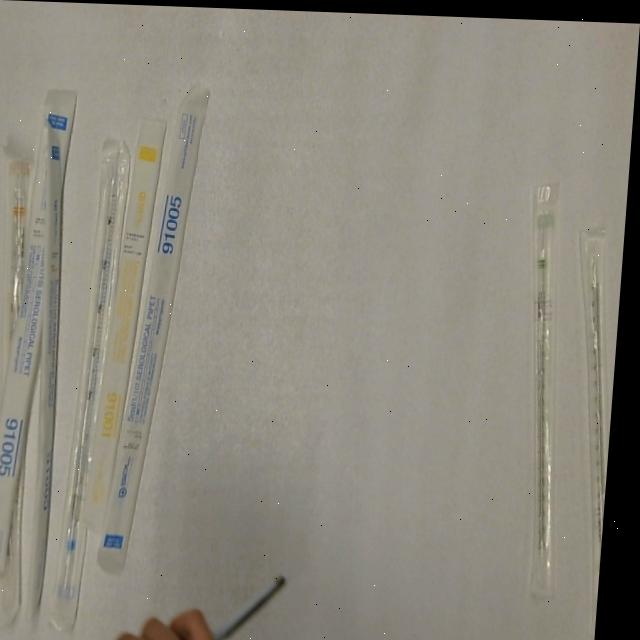Serelogical Pipet 1 mL: (86, 113, 173, 538)
Serelogical Pipet 10 mL: (0, 147, 49, 385)
Serelogical Pipet 2 mL: (508, 175, 592, 602)
Serelogical Pipet 5 mL: (102, 80, 214, 574), (0, 82, 82, 580), (56, 138, 136, 631), (19, 117, 83, 625)
Single Channel Pipettor: (212, 564, 299, 640)
